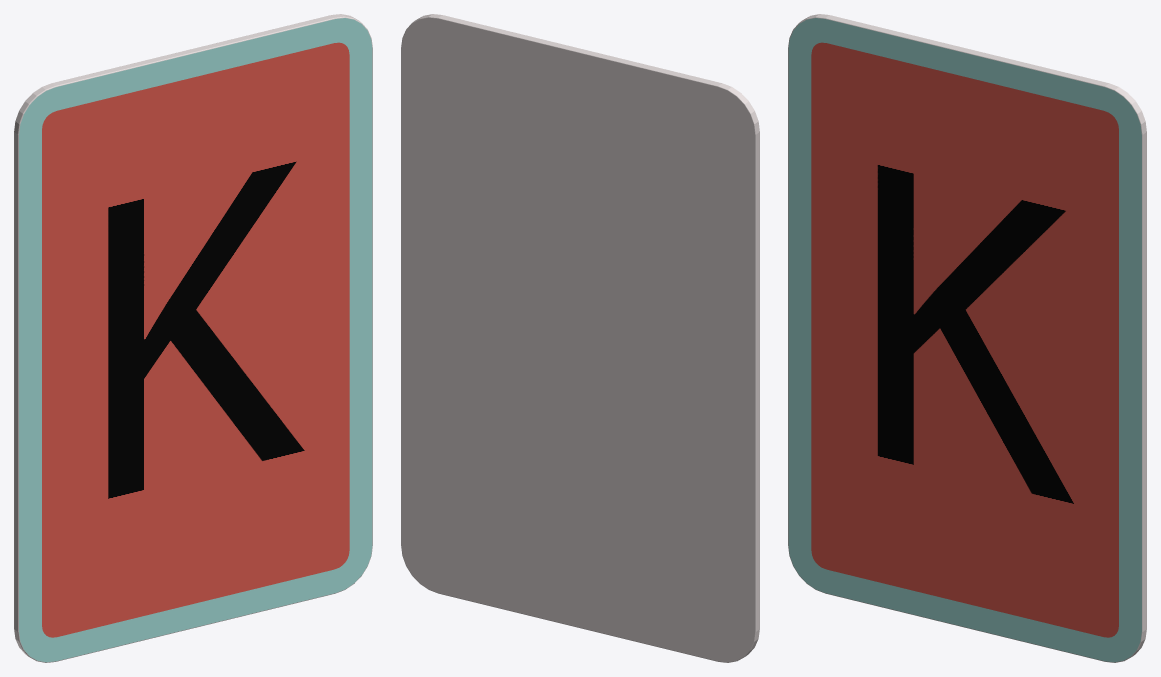
File: Hearts_13.fbx
3 views of the same model, side by side, from view 1: azimuth 30°, elevation 25°; view 2: azimuth 150°, elevation 25°; view 3: azimuth 330°, elevation 25° (orthographic).
Visible parts, largest first — view 1: redking; view 2: redking; view 3: redking.
Part boxes in pixels (x1=…): redking: x1=14, y1=14, x2=372, y2=662; redking: x1=401, y1=14, x2=759, y2=662; redking: x1=788, y1=14, x2=1146, y2=662.
Bounding box in the file's own units: 200 × 310 × 4.34.
Materials: 3 (1 with a texture image).
